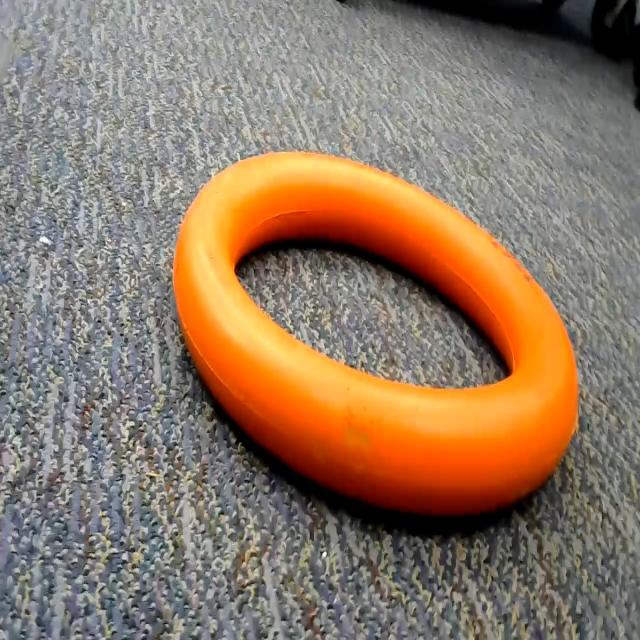note: (166, 120, 592, 530)
